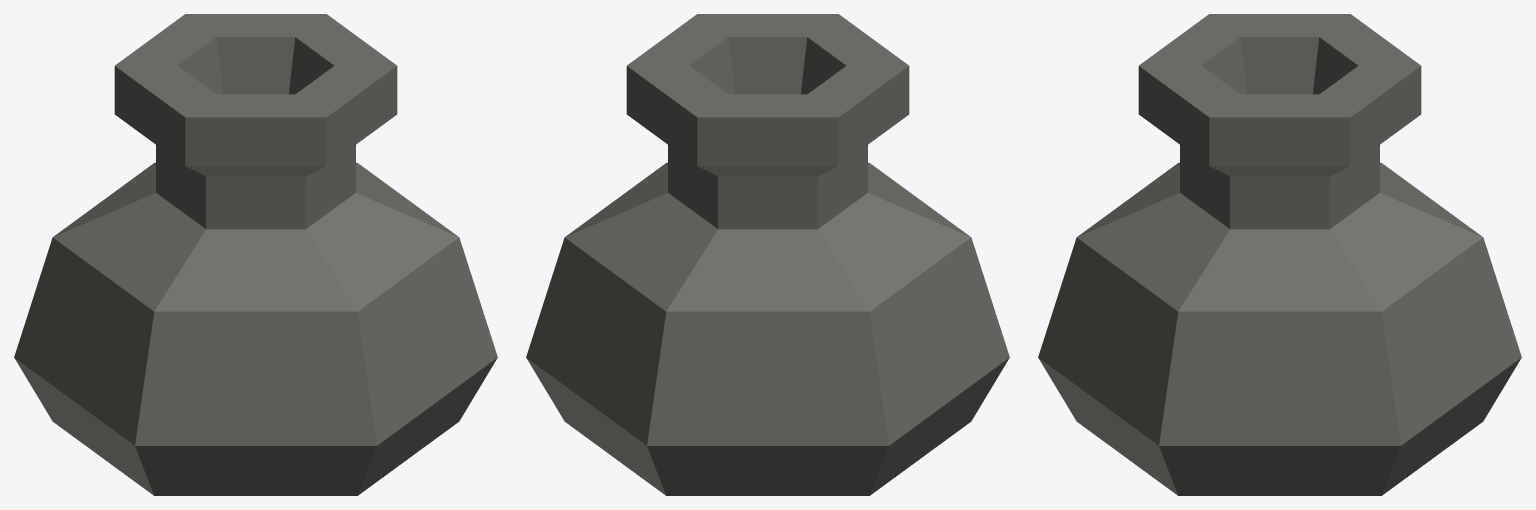
The model's file is inkwell.gltf.
3 views of the same model, side by side, from view 1: azimuth 30°, elevation 25°; view 2: azimuth 150°, elevation 25°; view 3: azimuth 270°, elevation 25° (orthographic).
Parts seen in each view (by area): view 1: Inkwell; view 2: Inkwell; view 3: Inkwell.
Part boxes in pixels (bbox=[...]): Inkwell: bbox=[14, 14, 497, 495]; Inkwell: bbox=[526, 14, 1009, 495]; Inkwell: bbox=[1038, 14, 1521, 495].
Bounding box in the file's own units: 0.131 × 0.1228 × 0.1513.
Materials: 1 (1 with a texture image).
